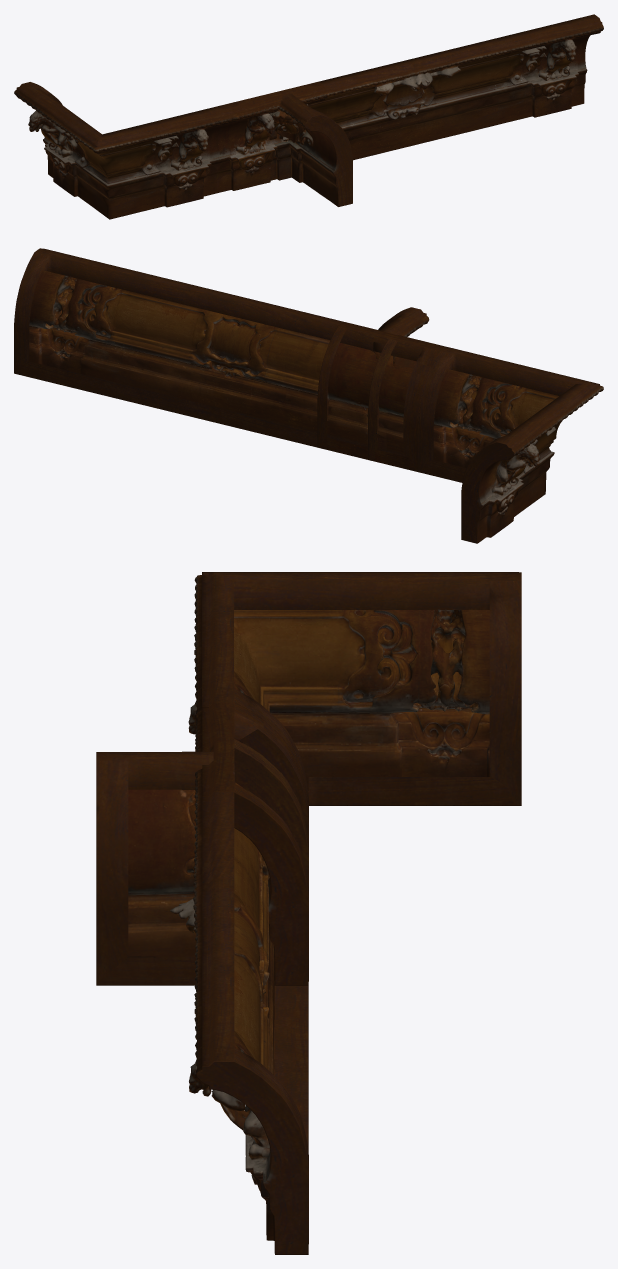
Rendered from modular top.fbx.
3 renders of one model, top to bottom at view 1: azimuth 30°, elevation 25°; view 2: azimuth 150°, elevation 25°; view 3: azimuth 270°, elevation 25°, orthographic. The views are drawn at different scales.
Visible parts, largest first — view 1: Aset_modular__M_ugynedpdw_01_LOD0, Aset_modular__M_ugynedpdw_04_LOD0, Aset_modular__M_ugynedpdw_03_LOD0, Aset_modular__M_ugynedpdw_00_LOD0; view 2: Aset_modular__M_ugynedpdw_01_LOD0, Aset_modular__M_ugynedpdw_04_LOD0, Aset_modular__M_ugynedpdw_00_LOD0, Aset_modular__M_ugynedpdw_03_LOD0, Aset_modular__M_ugynedpdw_02_LOD0; view 3: Aset_modular__M_ugynedpdw_04_LOD0, Aset_modular__M_ugynedpdw_01_LOD0, Aset_modular__M_ugynedpdw_03_LOD0, Aset_modular__M_ugynedpdw_00_LOD0, Aset_modular__M_ugynedpdw_02_LOD0.
Part boxes in pixels (box(x1,y1,x2,y2)): Aset_modular__M_ugynedpdw_01_LOD0: box(216, 14, 603, 190); Aset_modular__M_ugynedpdw_04_LOD0: box(14, 82, 235, 219); Aset_modular__M_ugynedpdw_03_LOD0: box(216, 93, 352, 206); Aset_modular__M_ugynedpdw_00_LOD0: box(217, 81, 327, 171); Aset_modular__M_ugynedpdw_01_LOD0: box(14, 248, 428, 457); Aset_modular__M_ugynedpdw_04_LOD0: box(418, 347, 603, 543); Aset_modular__M_ugynedpdw_00_LOD0: box(317, 322, 447, 472); Aset_modular__M_ugynedpdw_03_LOD0: box(353, 307, 430, 449); Aset_modular__M_ugynedpdw_02_LOD0: box(368, 338, 422, 460); Aset_modular__M_ugynedpdw_04_LOD0: box(188, 572, 521, 845); Aset_modular__M_ugynedpdw_01_LOD0: box(170, 711, 308, 1254); Aset_modular__M_ugynedpdw_03_LOD0: box(96, 720, 308, 985); Aset_modular__M_ugynedpdw_00_LOD0: box(195, 702, 308, 985); Aset_modular__M_ugynedpdw_02_LOD0: box(195, 711, 308, 889).
Size of the model in its own units: 557 by 101 by 200.
